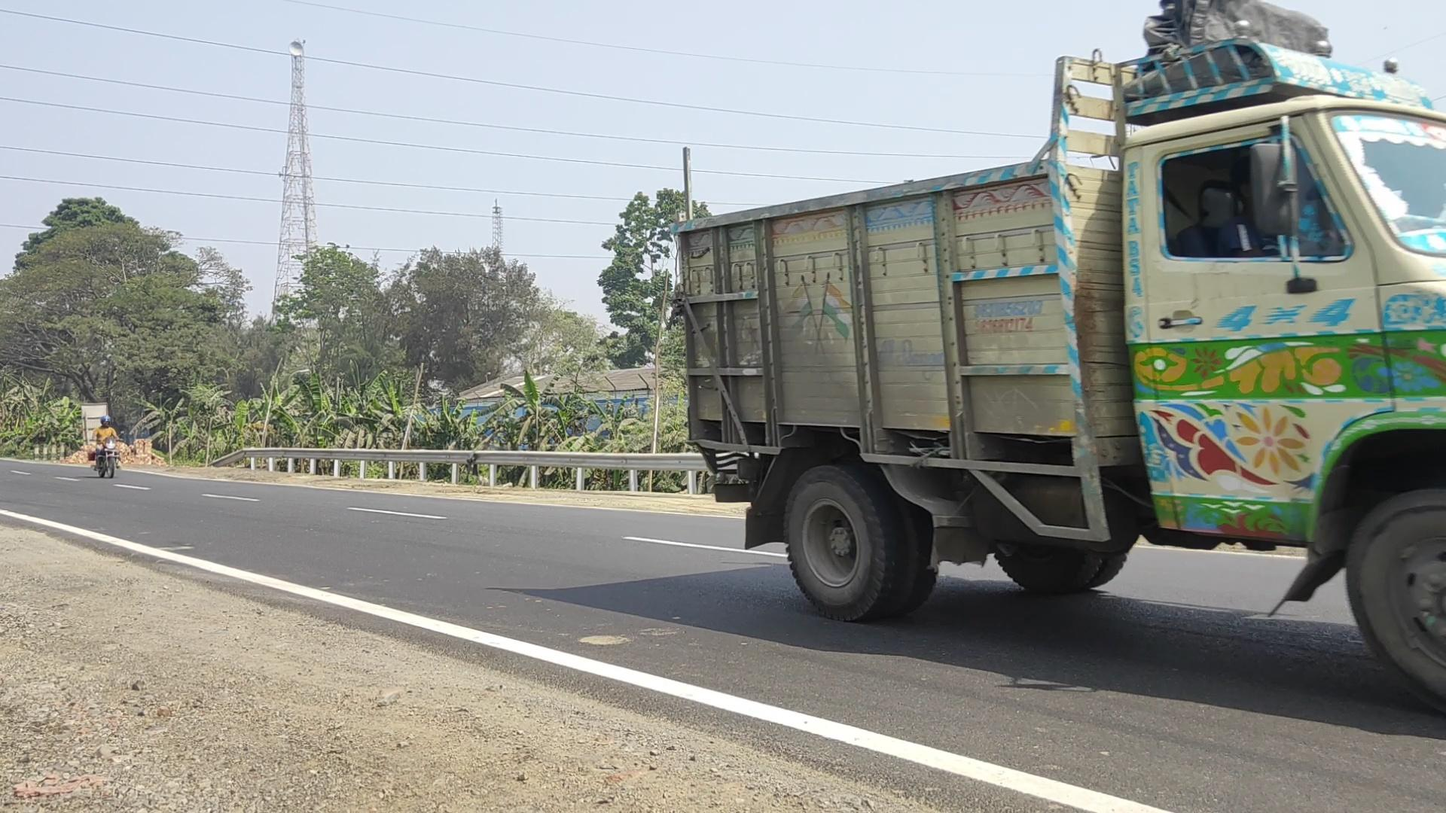bike: (87, 416, 125, 479)
truck: (676, 17, 1446, 709)
